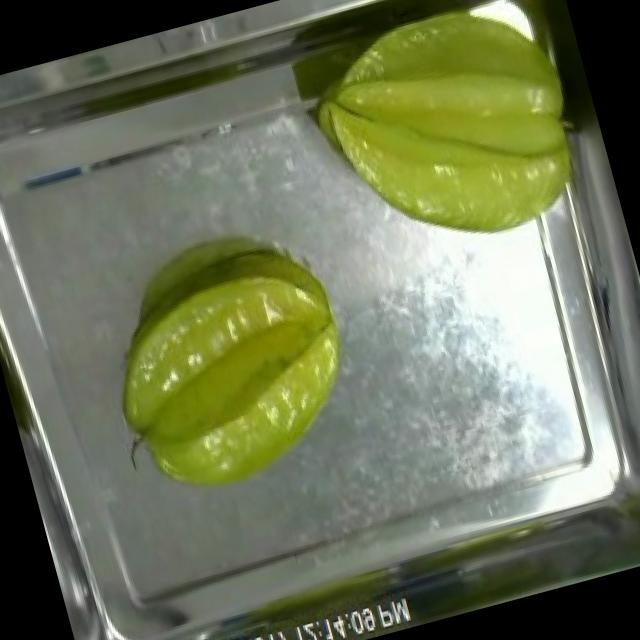fruit: (289, 0, 607, 277), (80, 239, 384, 523)
